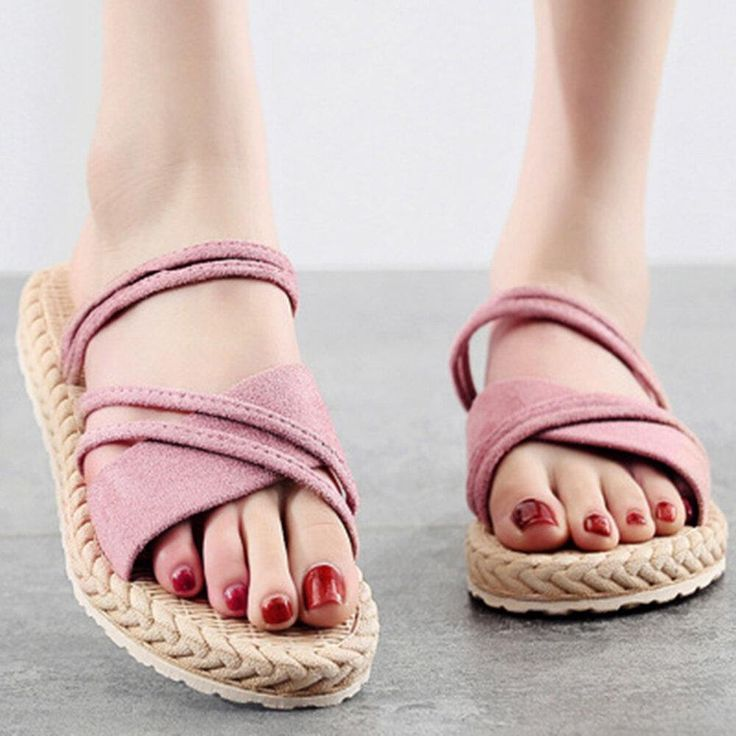gamuza: (57, 242, 713, 583)
